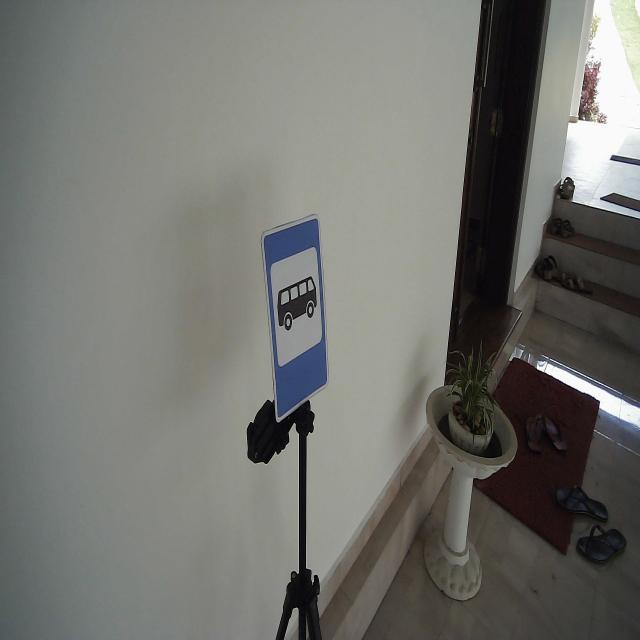bus_stop: (260, 210, 332, 427)
